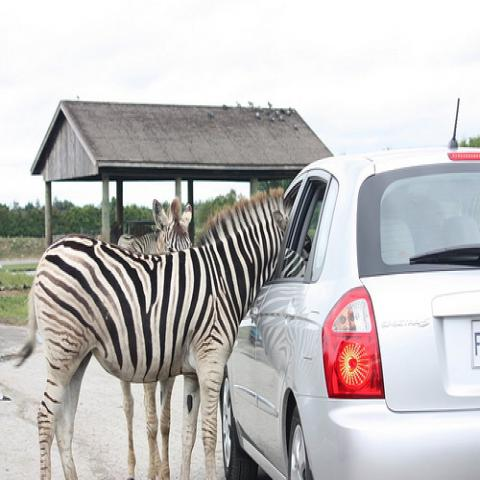car: (219, 147, 479, 476)
